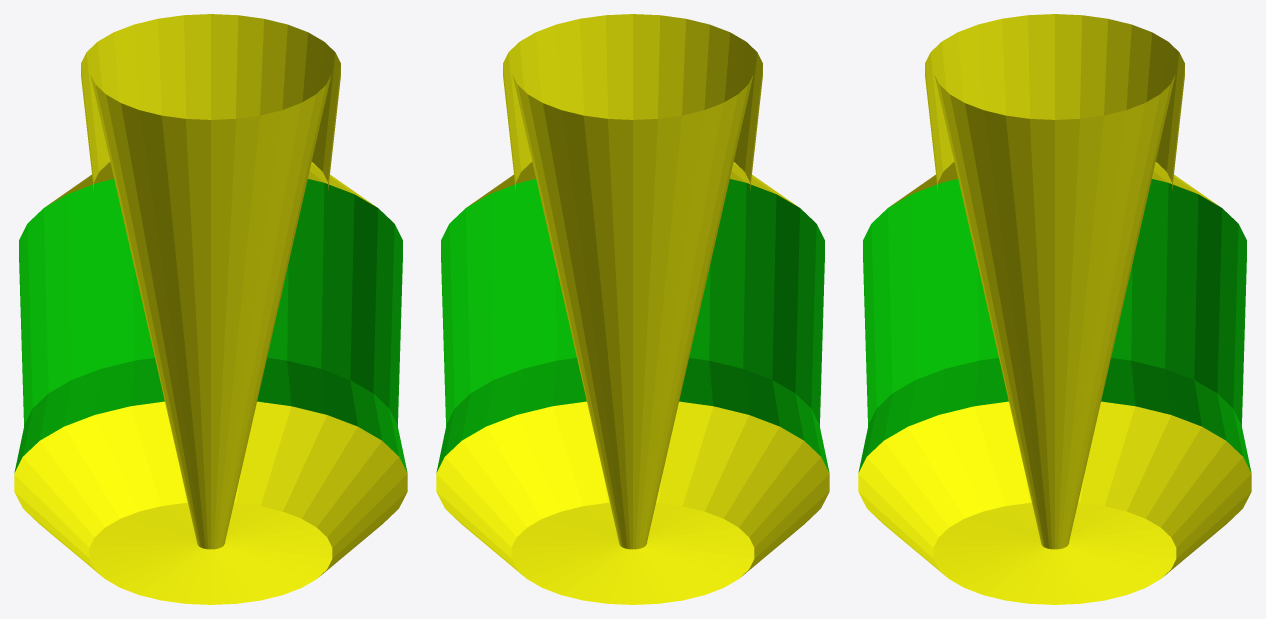
The picture shows the model from 3 angles, left to right: view 1: azimuth 30°, elevation 25°; view 2: azimuth 150°, elevation 25°; view 3: azimuth 270°, elevation 25°; orthographic projection.
Visible parts, largest first — view 1: algeomath; view 2: algeomath; view 3: algeomath.
Boxes of the visible parts, x1=… form: algeomath: x1=14, y1=14, x2=407, y2=604; algeomath: x1=436, y1=14, x2=829, y2=604; algeomath: x1=858, y1=14, x2=1251, y2=604.
Bounding box in the file's own units: 6.06 × 8.19 × 6.03.
Materials: 1 (1 with a texture image).
